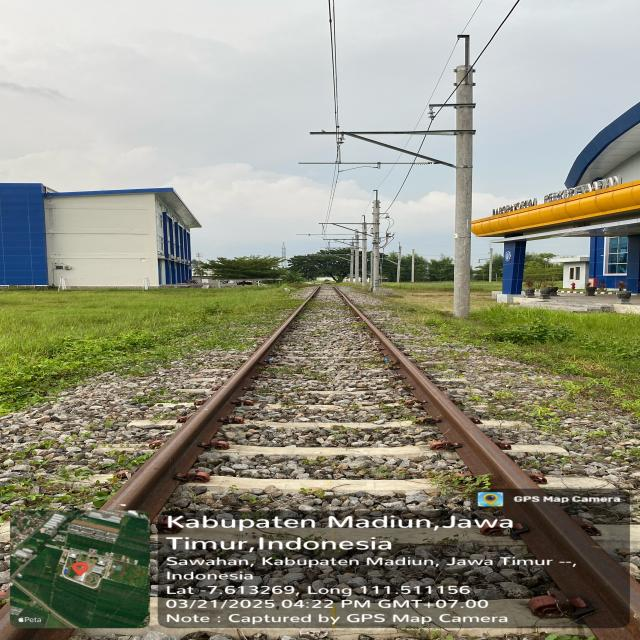rail-detection: (103, 284, 325, 509), (329, 286, 538, 491), (540, 515, 637, 625)
